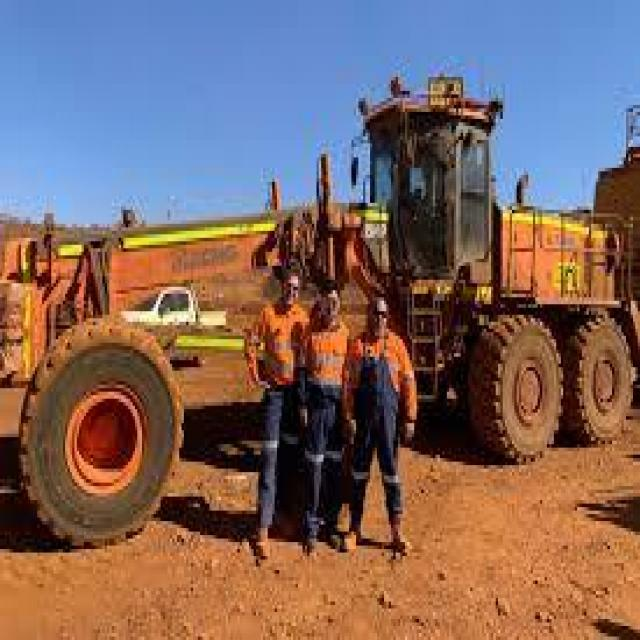Grader: (14, 56, 638, 587)
